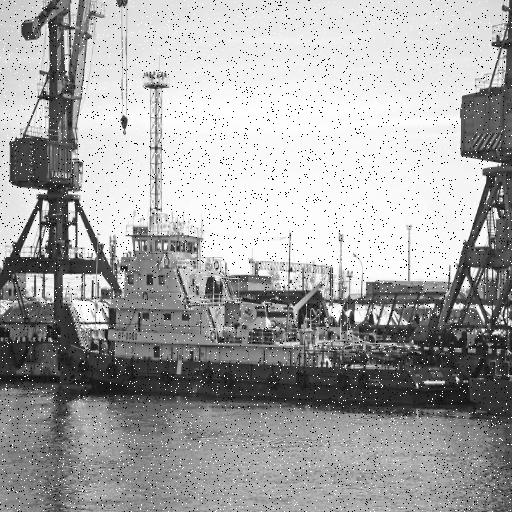tugboat: (58, 208, 466, 407)
